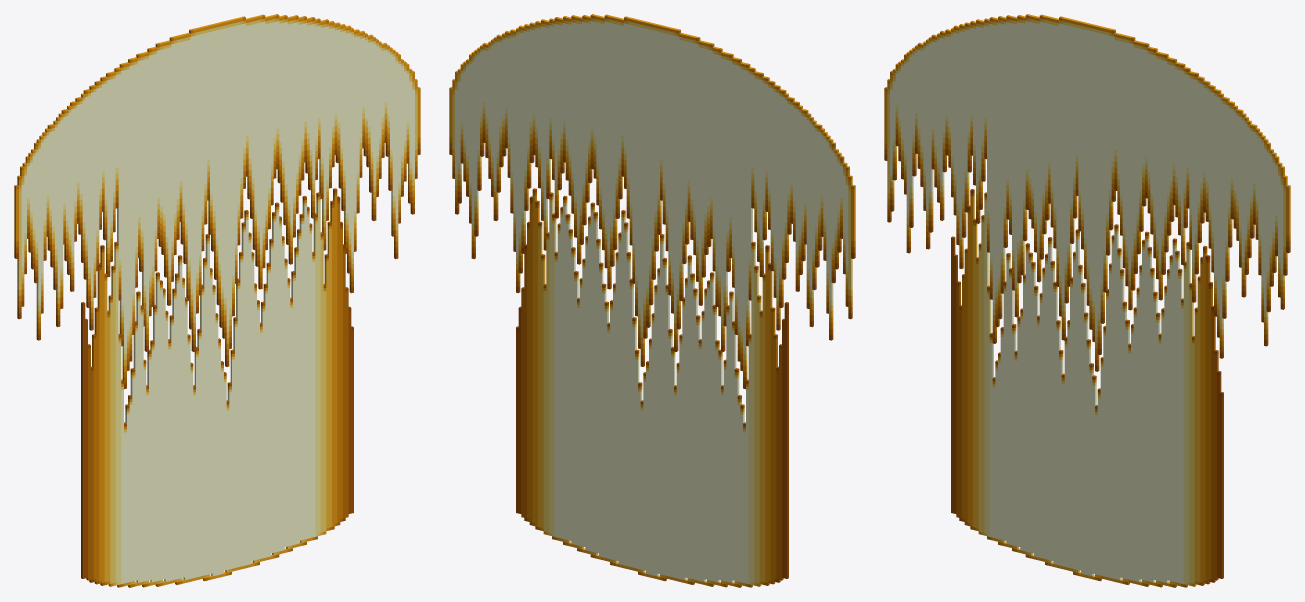
The model's file is Fight_757_2_12_fx.obj.
The picture shows the model from 3 angles, left to right: view 1: azimuth 30°, elevation 25°; view 2: azimuth 150°, elevation 25°; view 3: azimuth 330°, elevation 25°; orthographic projection.
Bounding box in the file's own units: 14.6 × 19.1 × 0.1.
